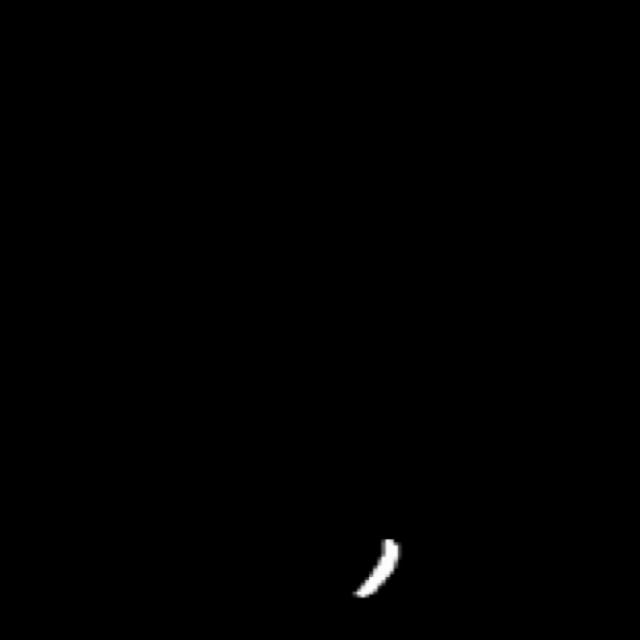one -1-: (338, 528, 415, 614)
